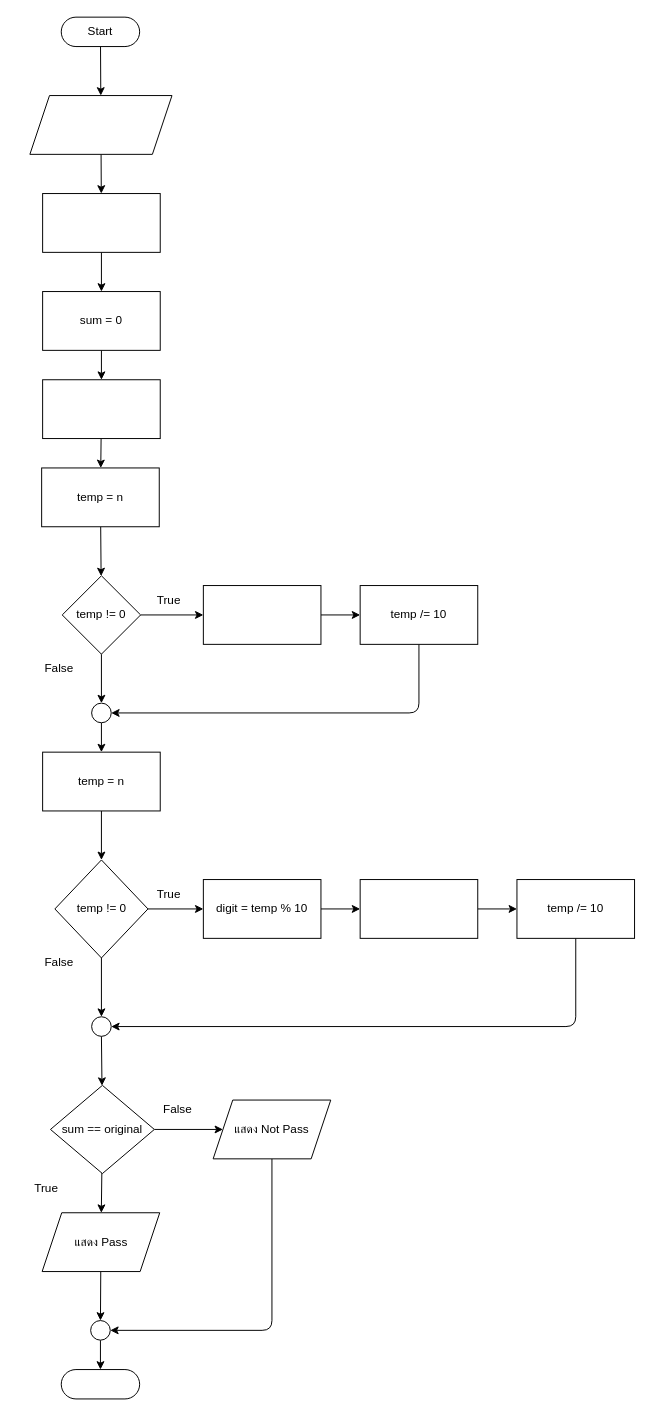
The diagram is 652 pixels wide and 1416 high, and some of its shapes have lost their labels. Each missing label, with the centre of its shape:
"digits ++" belongs at point (261, 614).
"digits = 0" belongs at point (101, 409).
"End" belongs at point (100, 1384).
"original = n" belongs at point (101, 222).
"sum += pow" belongs at point (418, 908).
"เเสดง Enter a number" belongs at point (100, 124).
